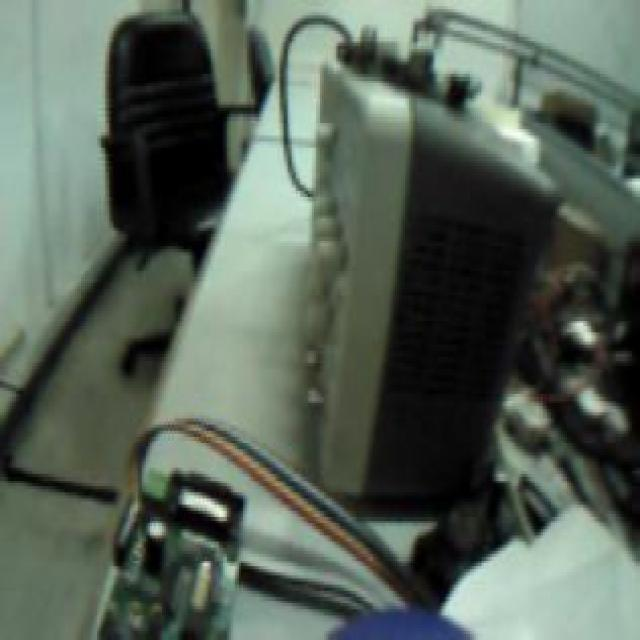BallPurple: (324, 603, 476, 640)
